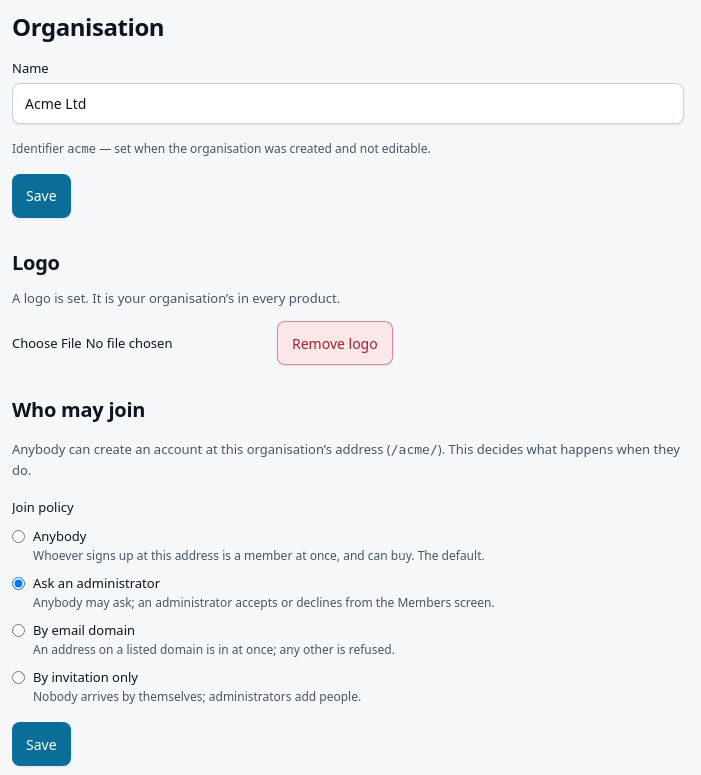
Test: the logo › removes it
Click the button "Remove logo" at (335, 343), box [277,321,393,365]
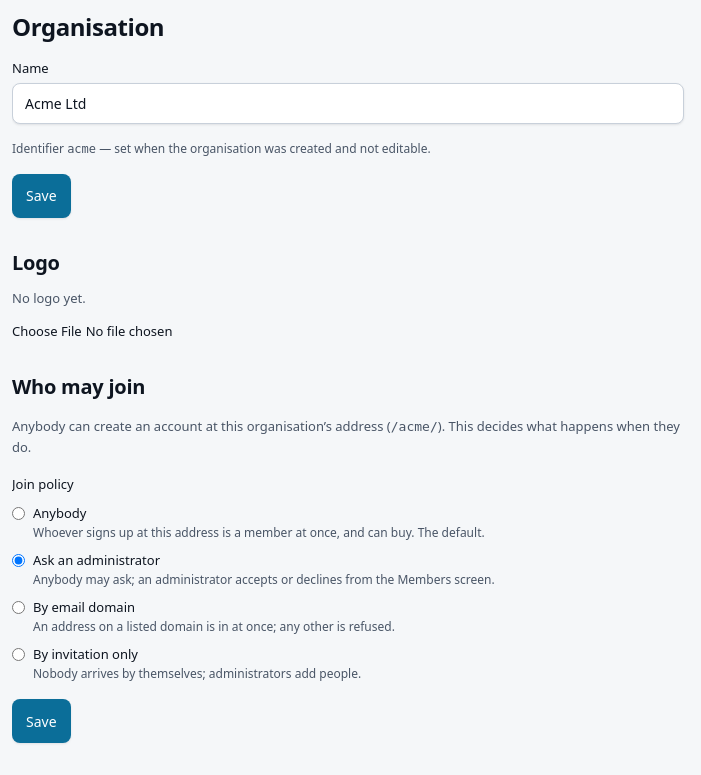
Expected: the text with test id "organisation-logo-state" shows "No logo yet", [12,289,86,307]
